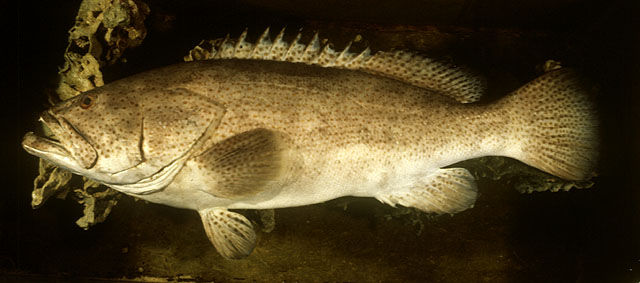fish: (21, 26, 602, 261)
